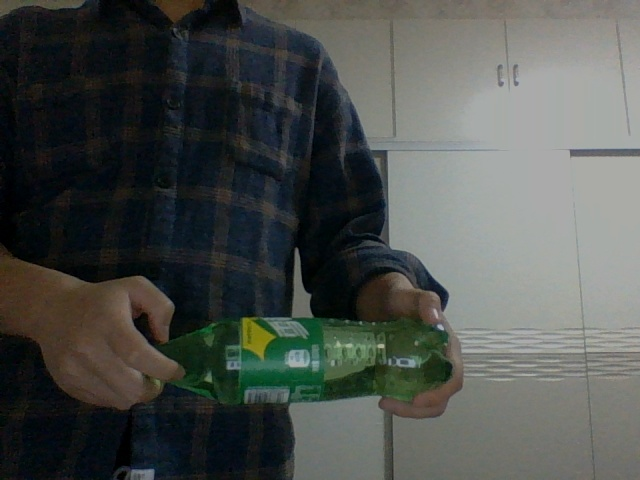Sprite: (155, 316, 451, 408)
